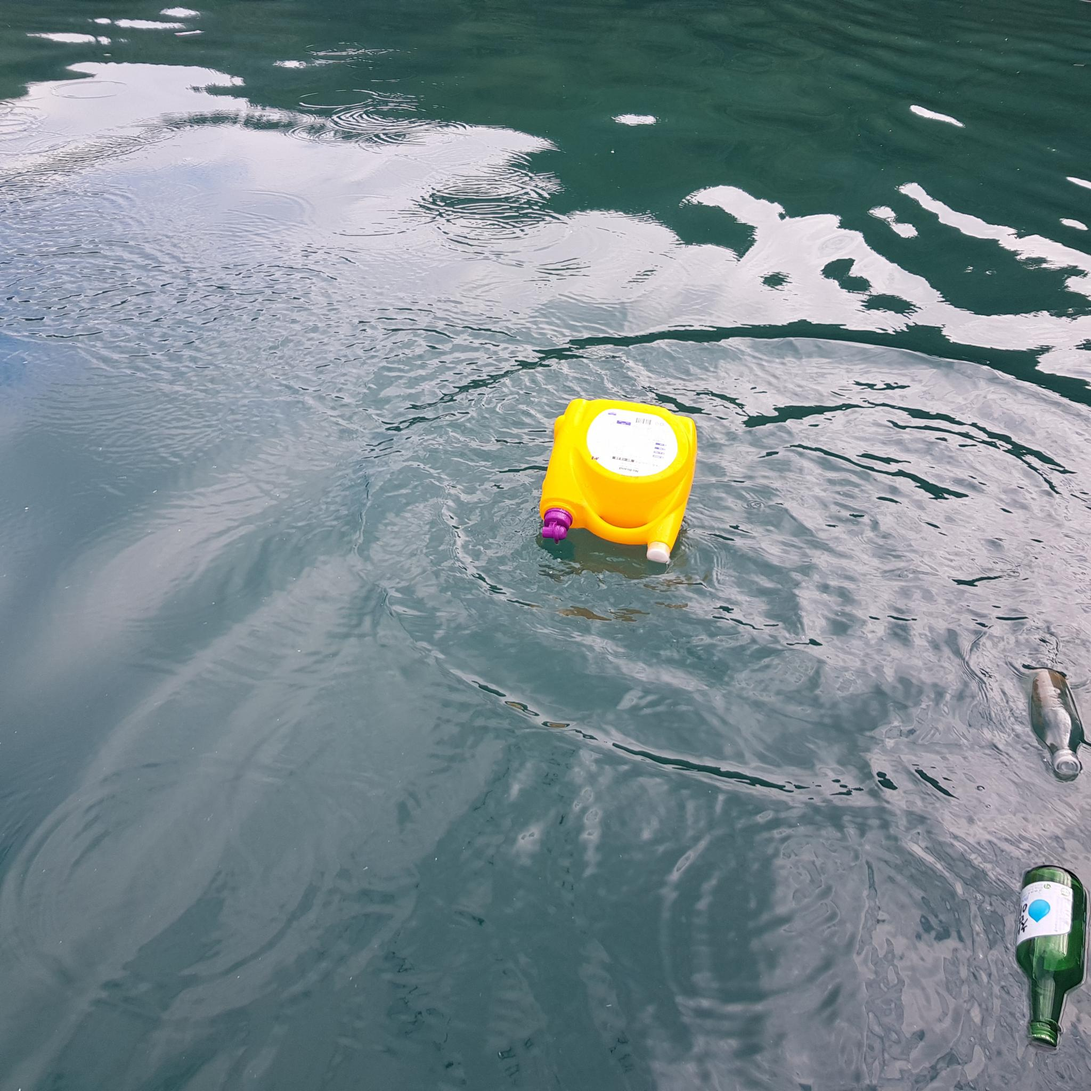sampah_terapung: (540, 398, 698, 564), (1015, 865, 1086, 1048), (1020, 669, 1082, 776)
